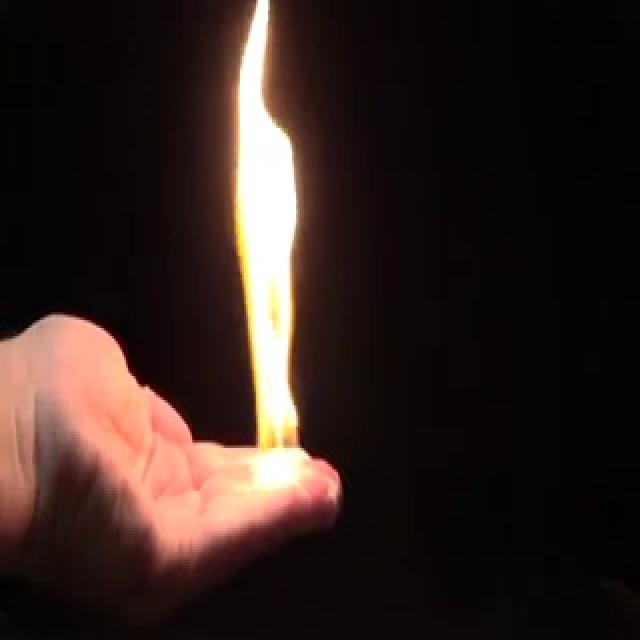fire: (212, 0, 315, 501)
